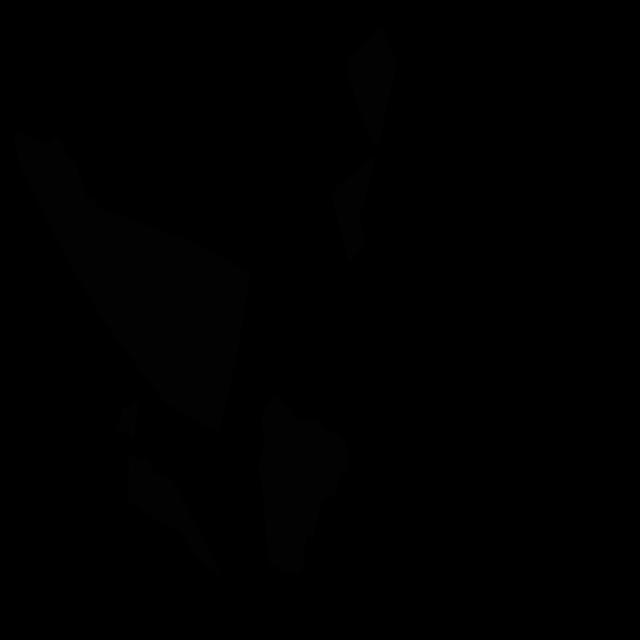cardboard: (12, 132, 250, 434), (258, 394, 350, 574), (127, 456, 222, 576), (348, 26, 397, 150), (332, 154, 376, 262), (116, 401, 138, 438)
